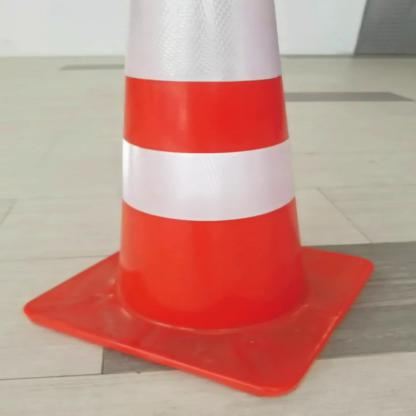cone: (12, 0, 388, 403)
